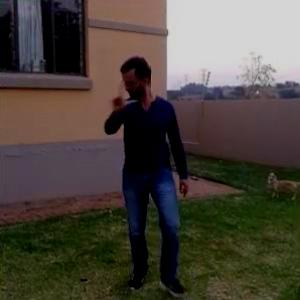land_hand: (106, 76, 138, 109)
